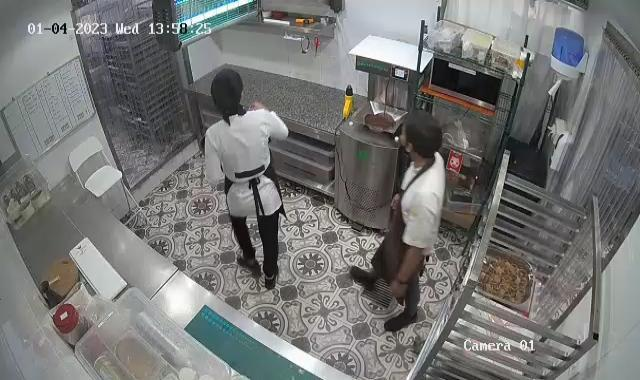no_hairnet: (402, 110, 441, 160), (210, 66, 243, 116)
